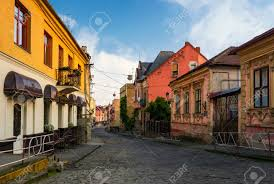strada: (20, 138, 252, 182)
